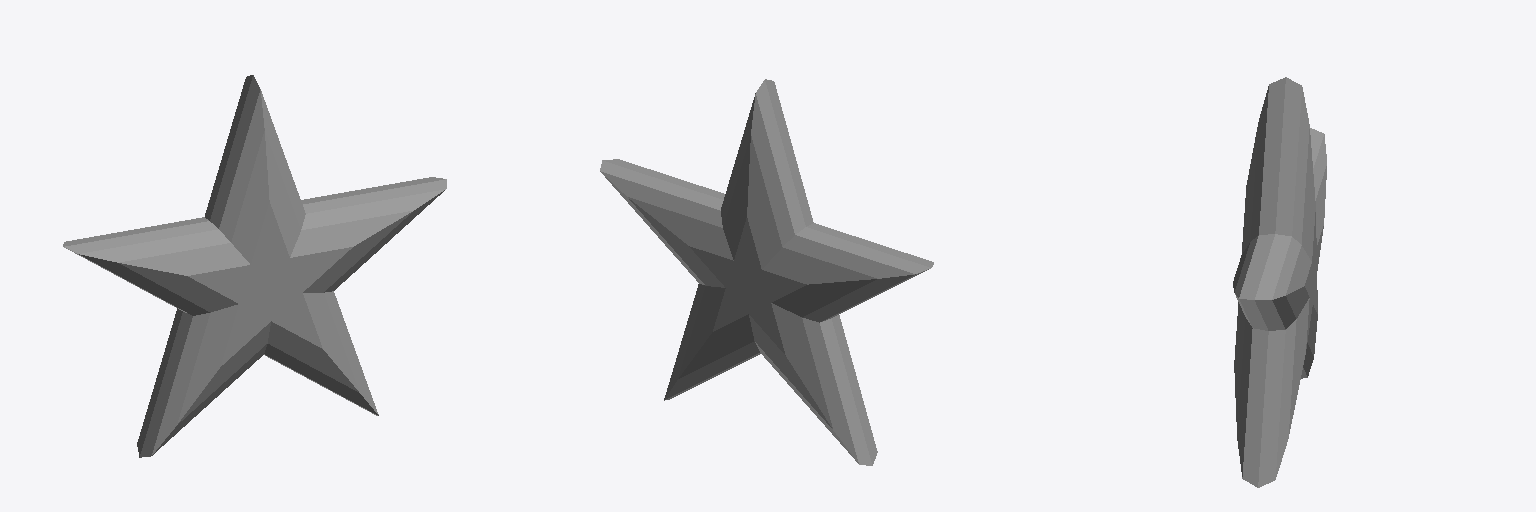
File: Star.obj
3 views of the same model, side by side, from view 1: azimuth 30°, elevation 25°; view 2: azimuth 150°, elevation 25°; view 3: azimuth 270°, elevation 25° (orthographic).
Visible parts, largest first — view 1: Cylinder_Cylinder.001; view 2: Cylinder_Cylinder.001; view 3: Cylinder_Cylinder.001.
Boxes of the visible parts, box(x1,y1,x2,y2) form: Cylinder_Cylinder.001: box(63, 75, 446, 457); Cylinder_Cylinder.001: box(600, 79, 933, 465); Cylinder_Cylinder.001: box(1233, 77, 1326, 487).
Size of the model in its own units: 1.96 by 1.89 by 0.4522.